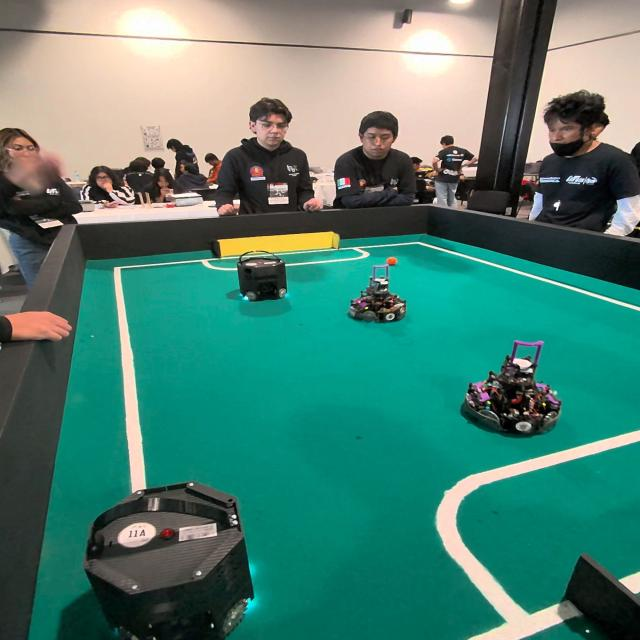Robot: (69, 477, 264, 640), (468, 342, 566, 440), (233, 249, 289, 316), (348, 270, 406, 326)
pelota: (372, 250, 409, 276)
